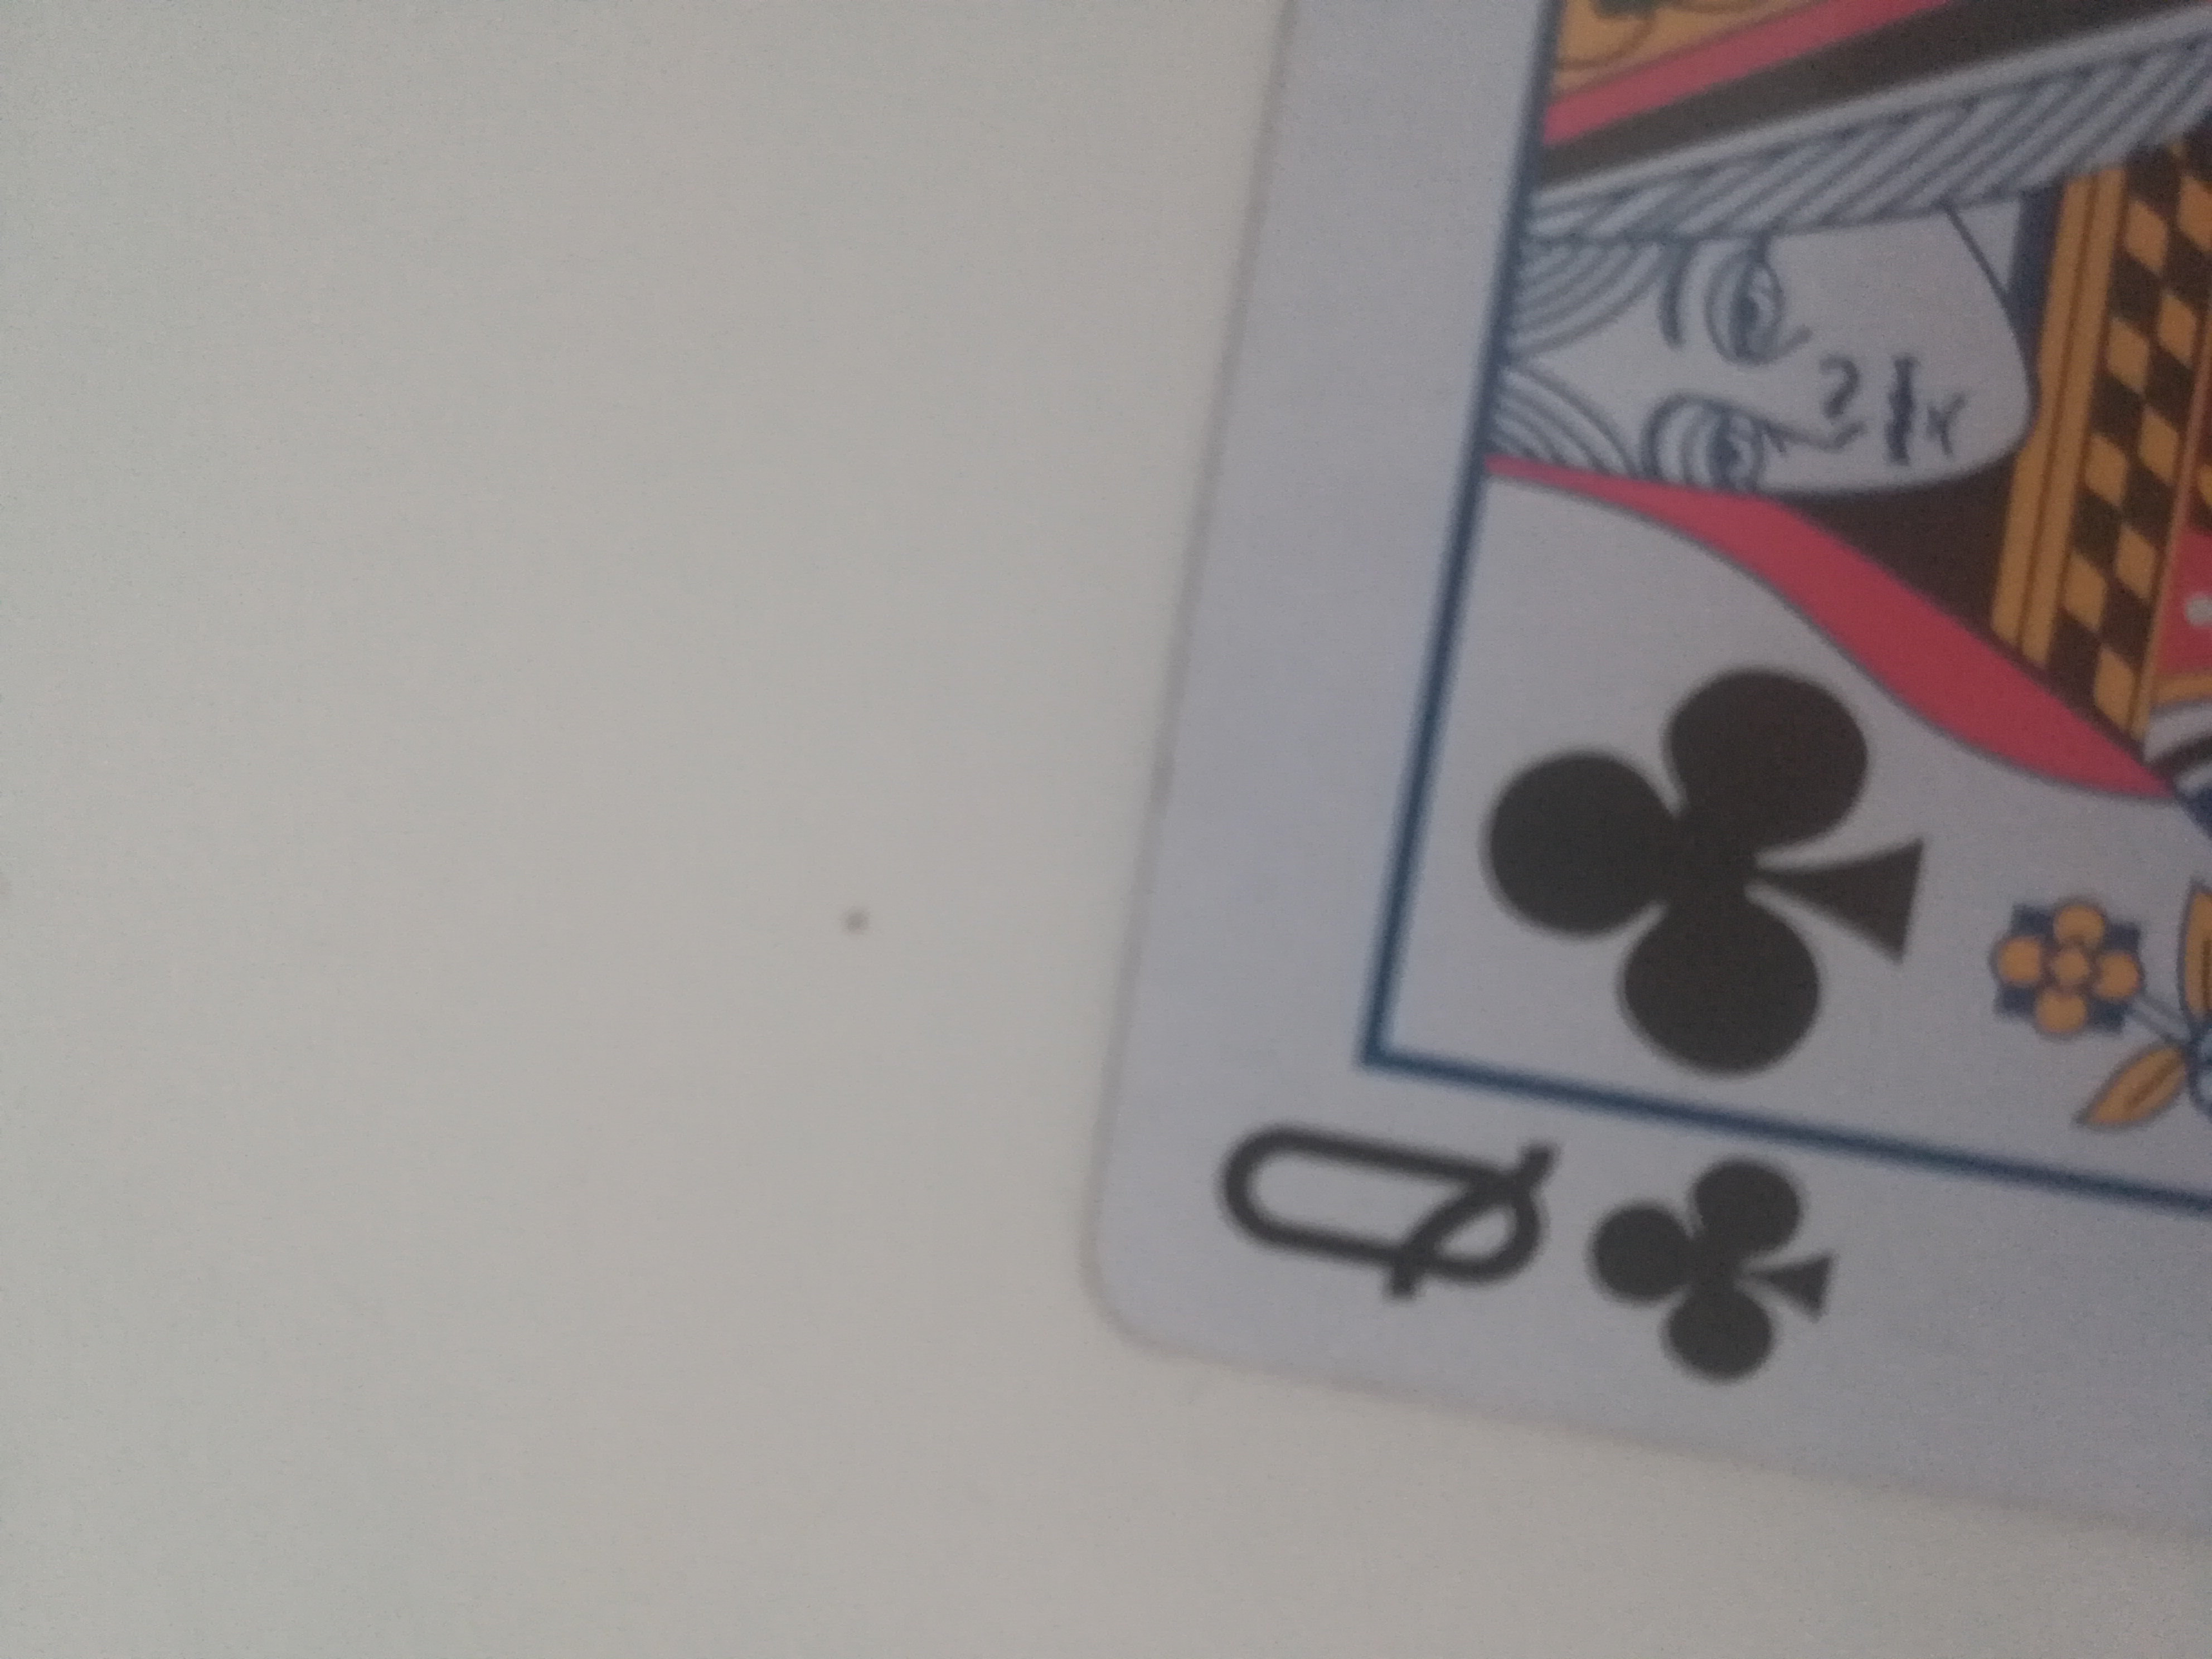QC: (1090, 0, 2203, 1549)
